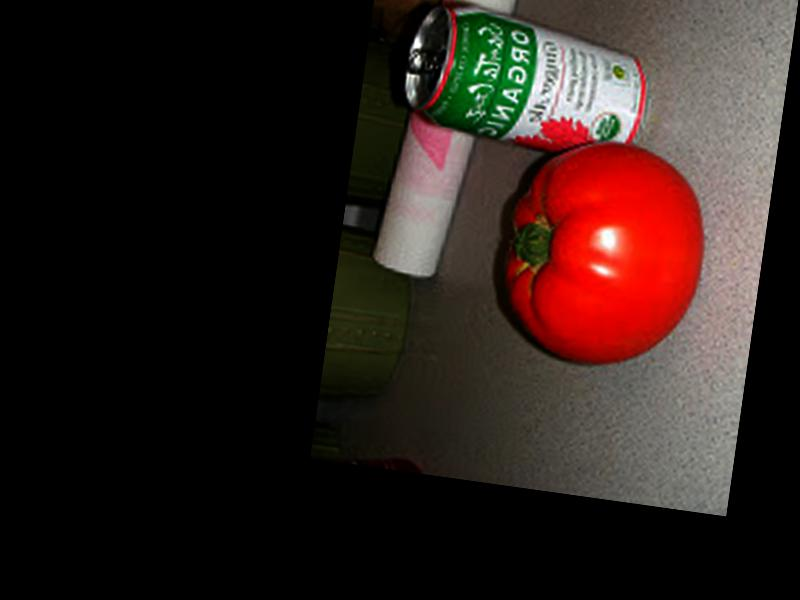Tomato: (495, 132, 714, 375)
